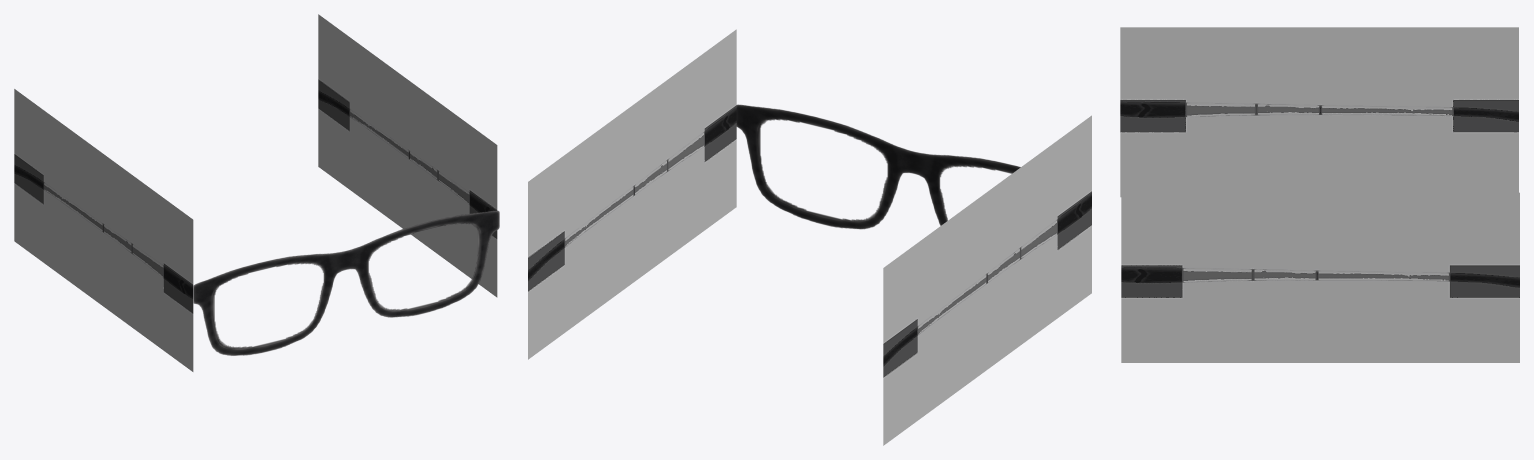
The model's file is gothamstyle-matte-flex-75_f4.glb.
3 views of the same model, side by side, from view 1: azimuth 30°, elevation 25°; view 2: azimuth 150°, elevation 25°; view 3: azimuth 270°, elevation 25° (orthographic). The views are drawn at different scales.
Parts seen in each view (by area): view 1: Right, Left, Front; view 2: Left, Right, Front; view 3: Left, Right.
Part boxes in pixels (box(x1,y1,x2,y2)): Right: box(14, 89, 193, 371); Left: box(318, 14, 497, 297); Front: box(193, 210, 499, 355); Left: box(528, 29, 736, 359); Right: box(883, 115, 1091, 445); Front: box(736, 104, 1020, 229); Left: box(1121, 192, 1519, 362); Right: box(1120, 27, 1518, 197).
Size of the model in its own units: 147 by 109 by 149.
Materials: 4 (4 with a texture image).
